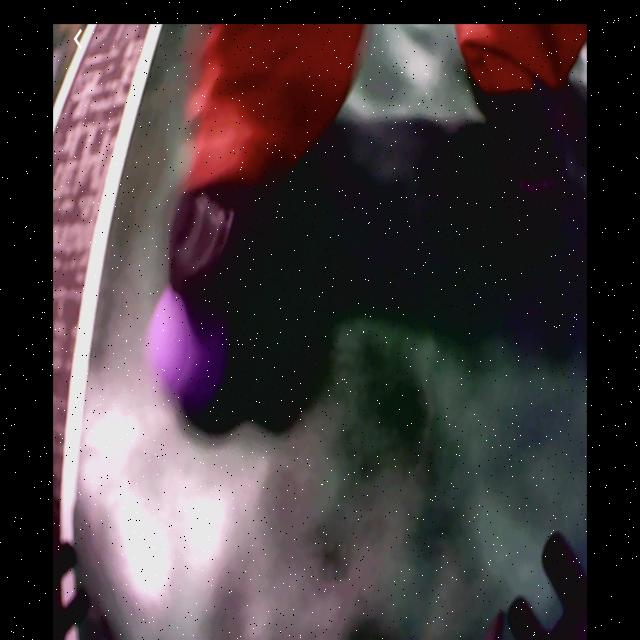ball: (150, 288, 228, 398)
